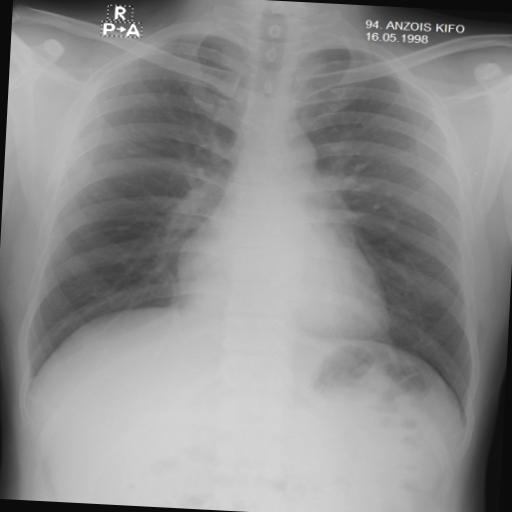normal: (12, 4, 500, 436)
